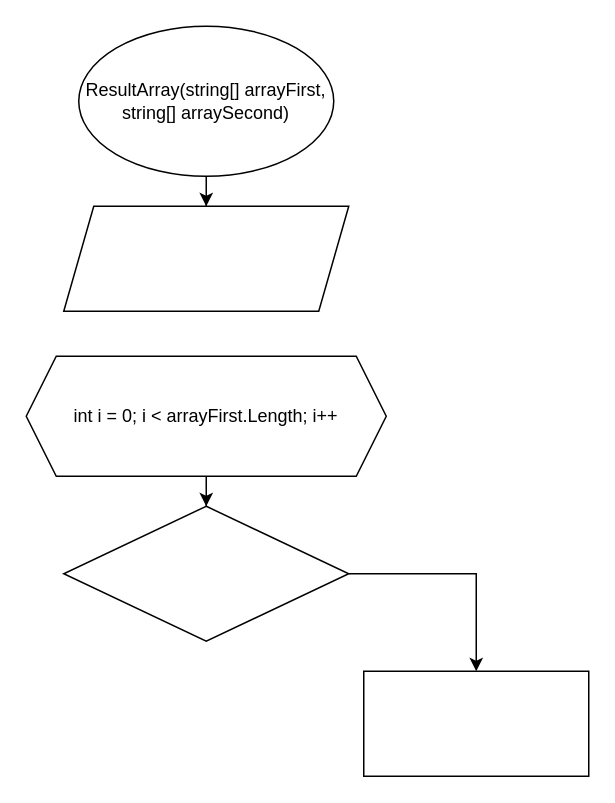
Some shapes in this 615 by 803 pixel diagram are drawn without their labels. The centre of each missing label's shape, as x and y in pixels:
"arrayFirst[i].Length <=3?" belongs at point (205, 573).
"int index = 0;" belongs at point (205, 258).
